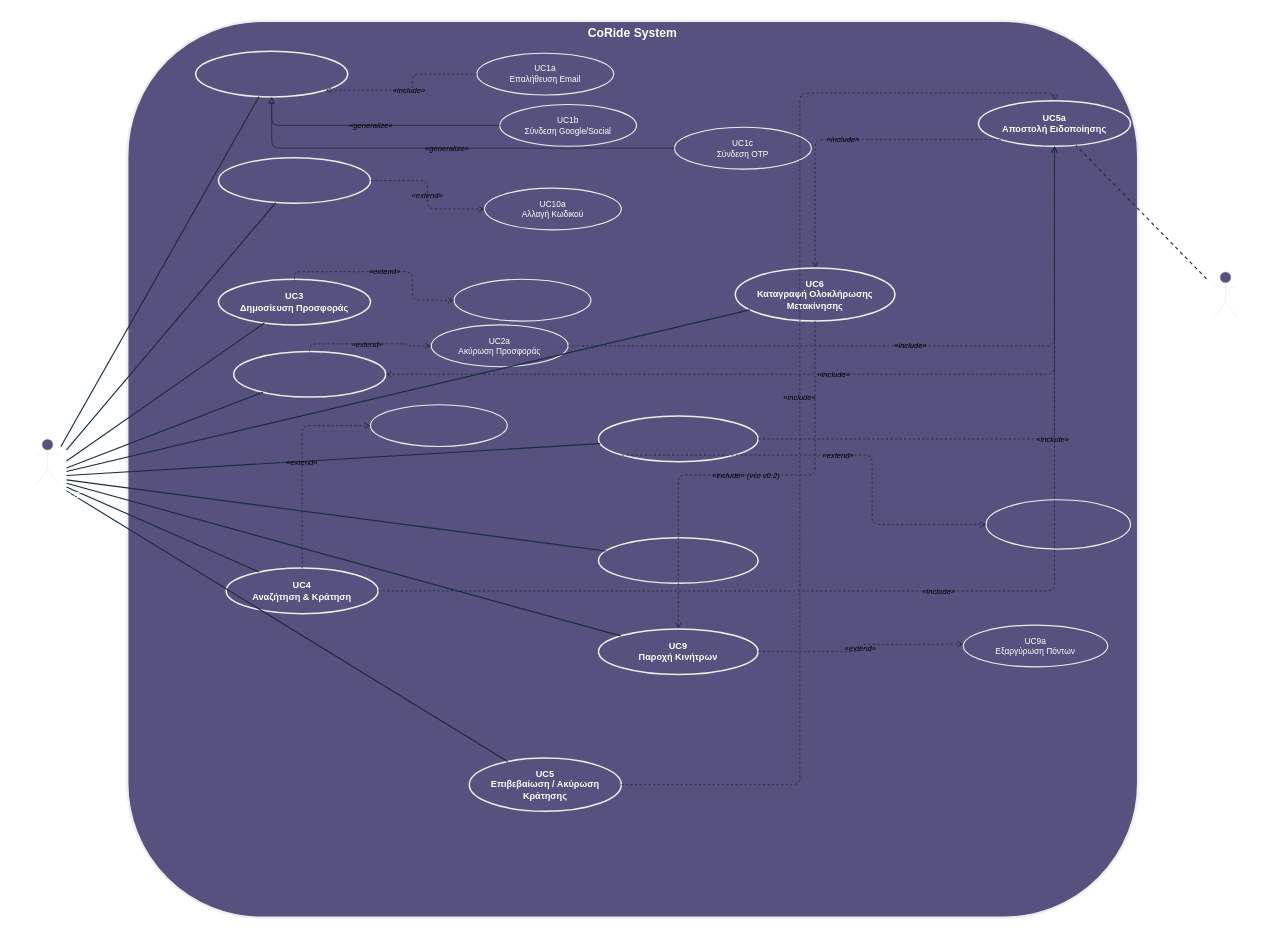
The diagram is 1273 pixels wide and 932 high, and some of its shapes have lost their labels. Each missing label, with the centre of its shape:
"UC1 Σύνδεση / Εγγραφή" goes at (271,73).
"UC10 Διαχείριση Προφίλ" goes at (294,180).
"UC2 Τροποποίηση Διαδρομής" goes at (309,373).
"UC3a Επικύρωση Οχήματος" goes at (522,299).
"UC4a Φίλτρο Αναζήτησης" goes at (439,425).
"UC7 Αξιολόγηση / Σχόλια" goes at (677,438).
"UC7a Αξιολόγηση Επιβάτη από Οδηγό" goes at (1058,524).
"UC8 Προβολή Στατιστικών" goes at (677,560).
